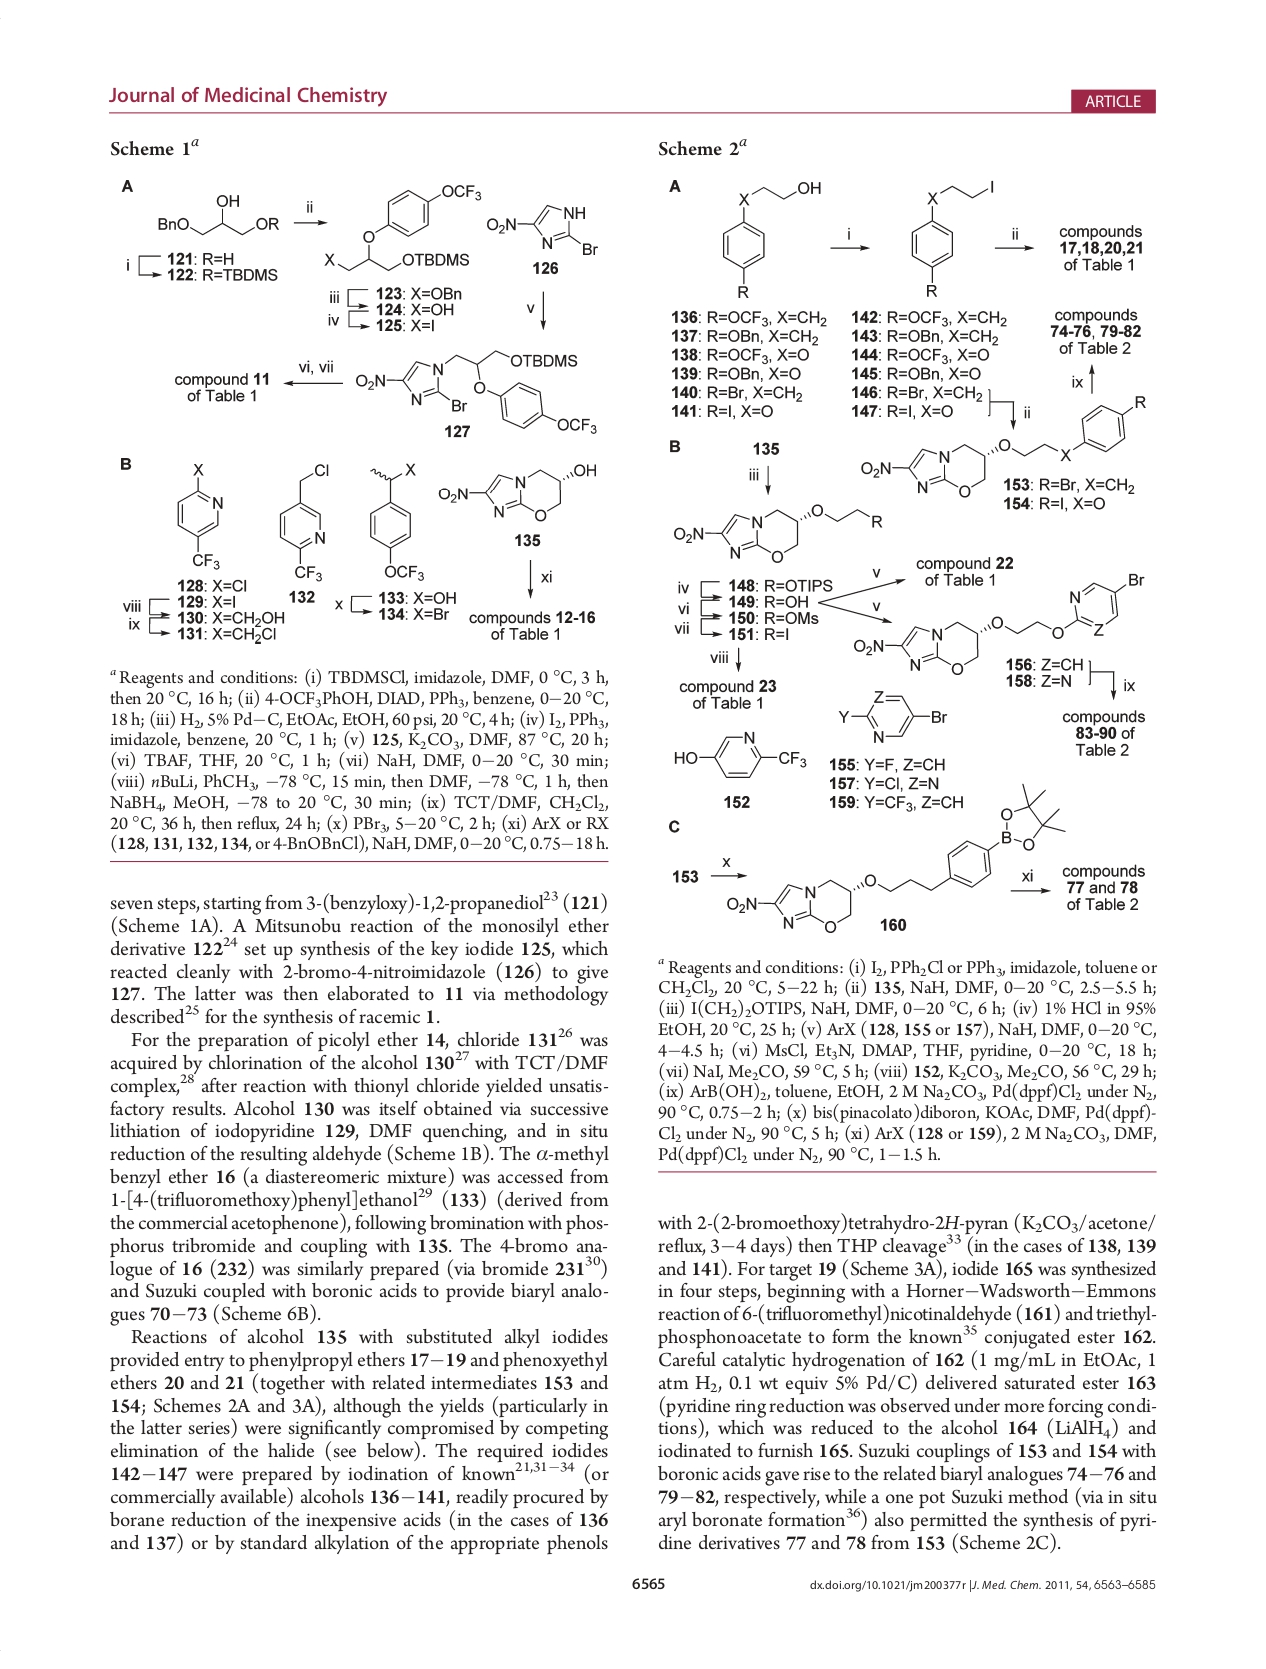exist_molecular: (723, 783, 1068, 938), (850, 571, 1146, 677), (859, 394, 1149, 497), (354, 347, 598, 442), (669, 499, 890, 567), (322, 184, 481, 273), (721, 176, 823, 302), (906, 172, 996, 301), (436, 461, 598, 523), (669, 727, 809, 785), (364, 460, 430, 582), (273, 456, 328, 584), (830, 688, 953, 745), (484, 197, 601, 257), (172, 460, 231, 575), (152, 193, 282, 243)
